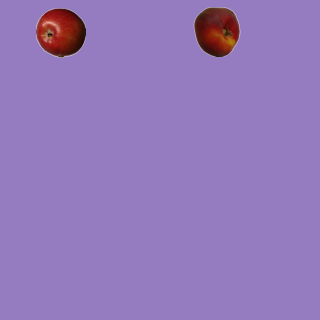Apple Braeburn: (35, 7, 85, 57)
Nectarine Flat: (191, 6, 241, 56)
